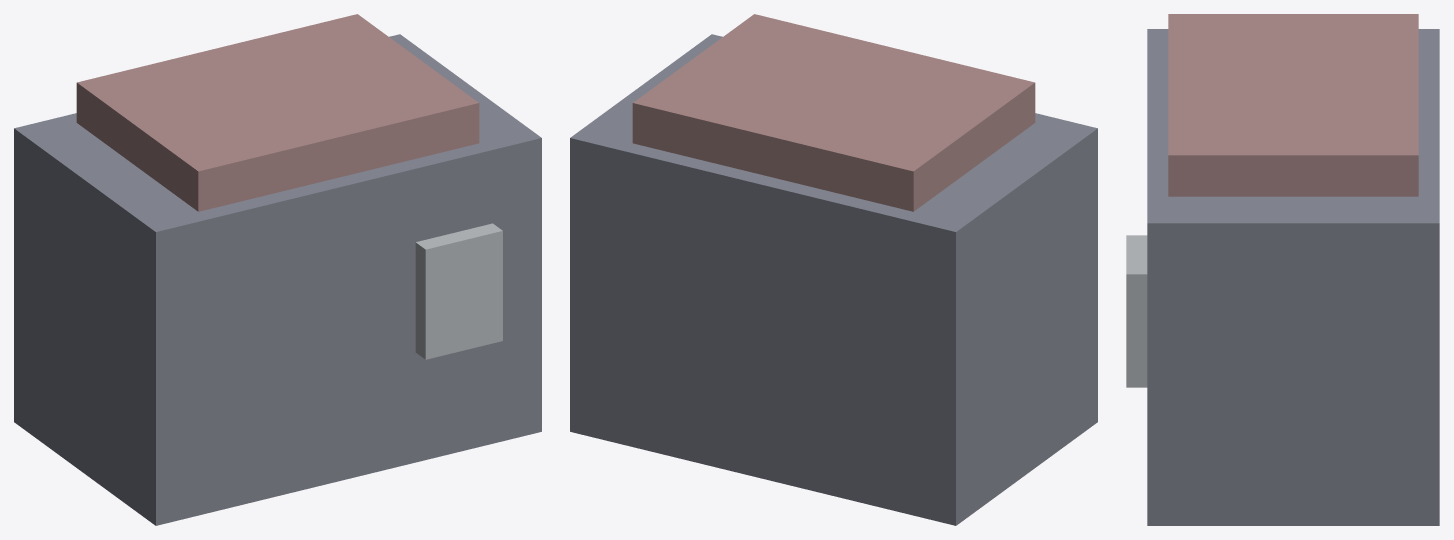
File: furn_generator.glb
3 renders of one model, left to right at view 1: azimuth 30°, elevation 25°; view 2: azimuth 150°, elevation 25°; view 3: azimuth 270°, elevation 25°, orthographic. The views are drawn at different scales.
Visible parts, largest first — view 1: furn_generator; view 2: furn_generator; view 3: furn_generator.
Part boxes in pixels (<box>): furn_generator: <box>14,14,541,525</box>; furn_generator: <box>570,14,1097,525</box>; furn_generator: <box>1126,14,1439,525</box>.
Size of the model in its own units: 1.1 by 0.91 by 0.75.
